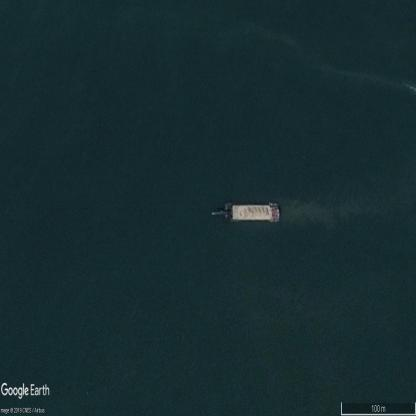ship: (212, 200, 282, 224)
